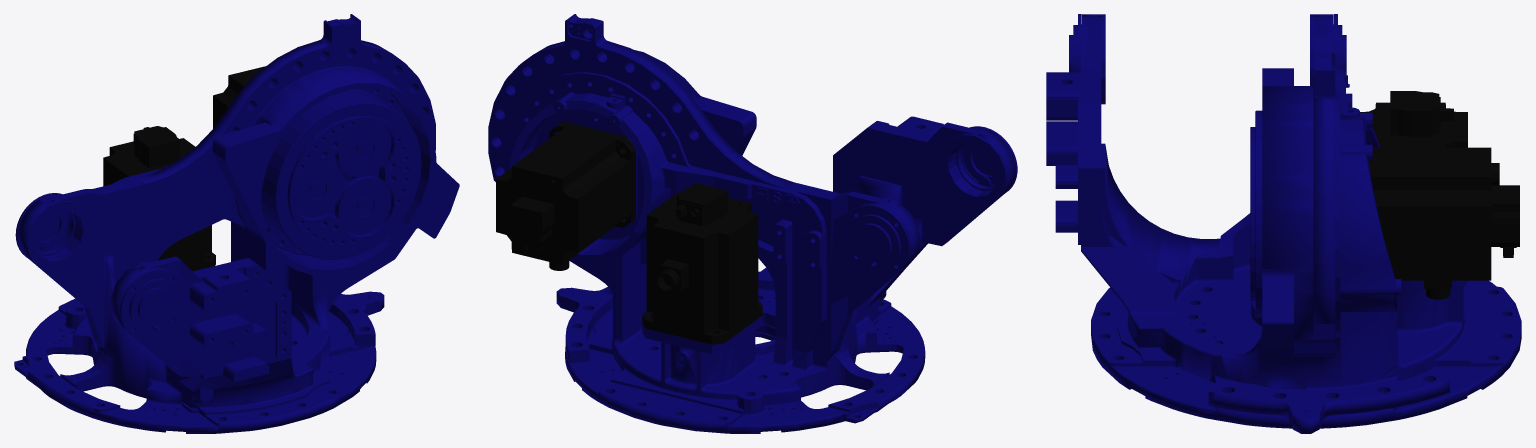
The model's file is S_axis.dae.
3 views of the same model, side by side, from view 1: azimuth 30°, elevation 25°; view 2: azimuth 150°, elevation 25°; view 3: azimuth 270°, elevation 25° (orthographic). The views are drawn at different scales.
Visible parts, largest first — view 1: ES165D Saxis; view 2: ES165D Saxis; view 3: ES165D Saxis.
Boxes of the visible parts, x1,y1,x2,y2 form: ES165D Saxis: (14,14,459,433); ES165D Saxis: (488,14,1017,433); ES165D Saxis: (1046,14,1521,433).
Bounding box in the file's own units: 0.926 × 0.75 × 0.6375.
